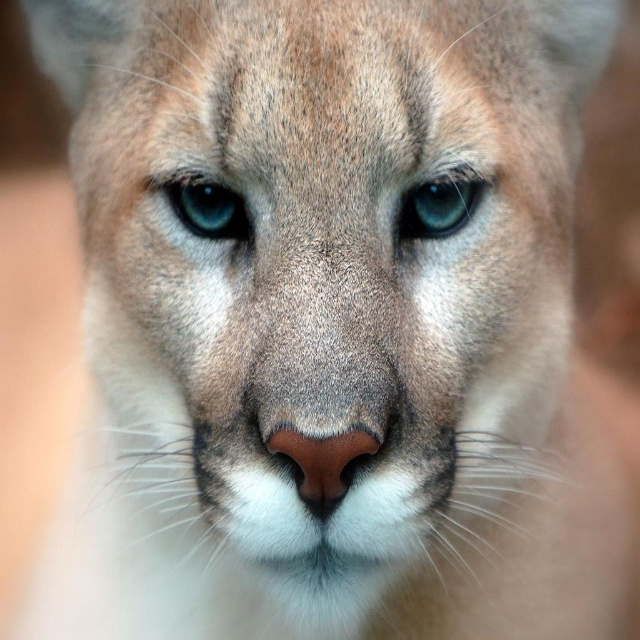Lion: (18, 0, 627, 640)
